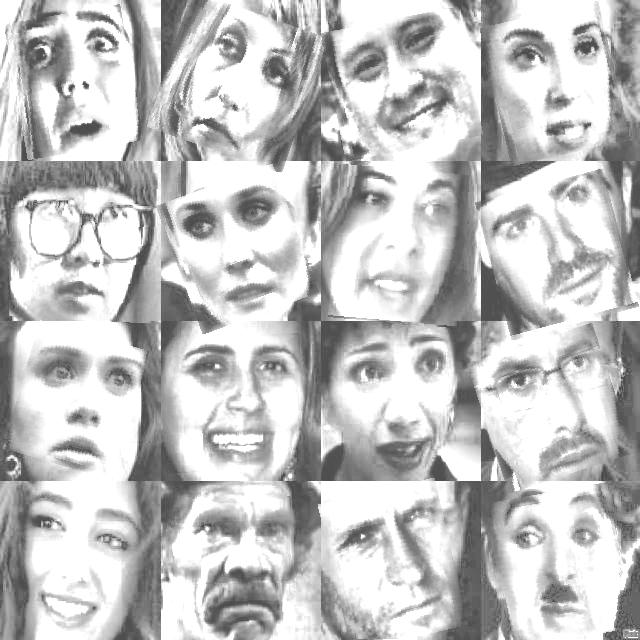angry: (325, 483, 460, 640), (172, 497, 294, 640)
fear: (11, 167, 157, 322), (9, 8, 139, 156), (11, 326, 141, 474), (335, 341, 457, 477)
happy: (483, 176, 631, 333), (327, 12, 478, 155), (331, 167, 466, 326), (487, 487, 627, 640), (487, 7, 623, 161), (166, 334, 304, 472), (18, 489, 136, 633)
neutral: (155, 0, 319, 163), (476, 330, 626, 484), (166, 172, 310, 326)
